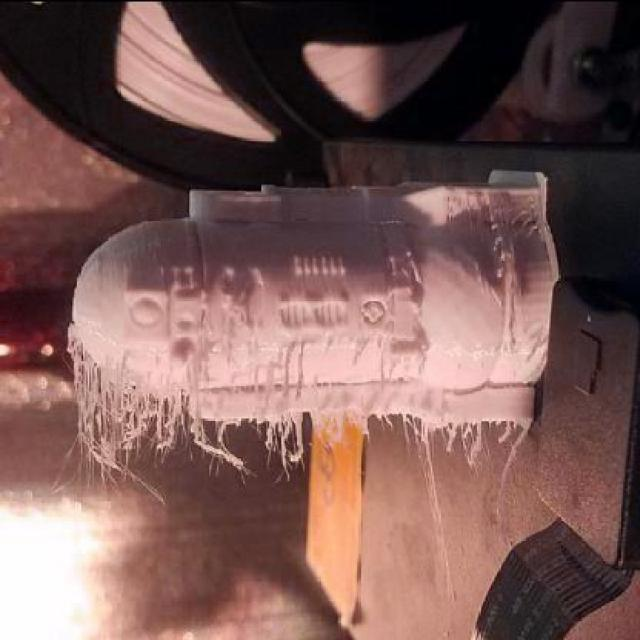spaghetti: (54, 327, 533, 500), (441, 185, 547, 298)
